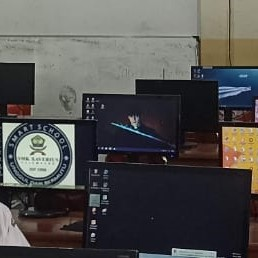monitor: (82, 161, 252, 254), (0, 117, 96, 190), (82, 93, 182, 160), (135, 79, 219, 133), (191, 66, 258, 122), (220, 124, 258, 196), (0, 63, 35, 107)
